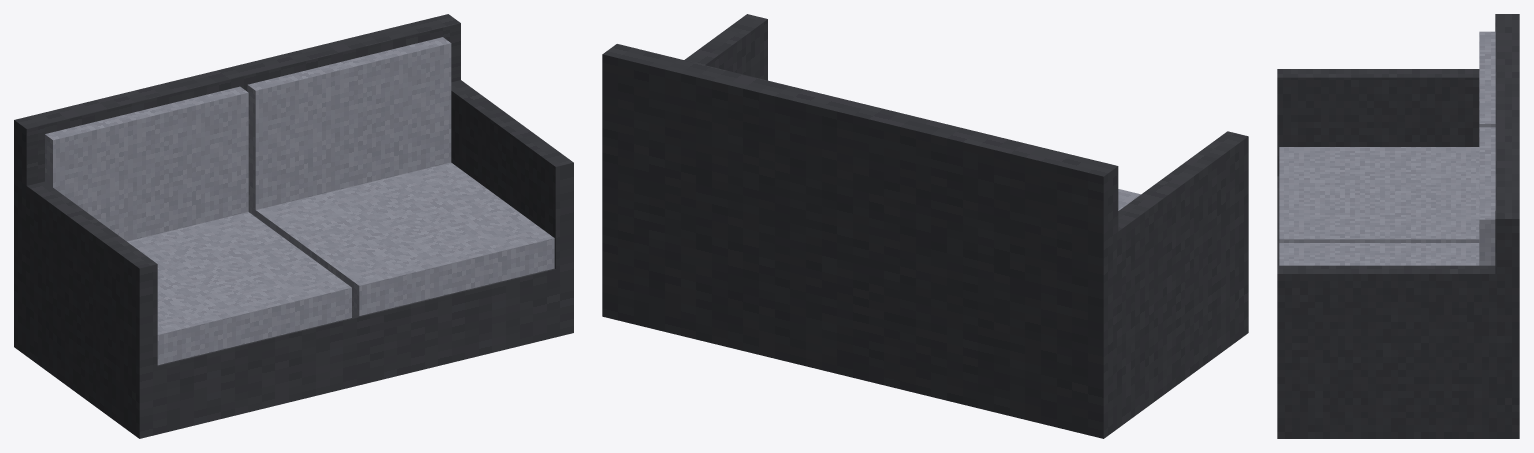
The model's file is HomeSofa.fbx.
3 views of the same model, side by side, from view 1: azimuth 30°, elevation 25°; view 2: azimuth 150°, elevation 25°; view 3: azimuth 270°, elevation 25° (orthographic). The views are drawn at different scales.
Visible parts, largest first — view 1: Cube_2_2, Cube_1, Cube_2, Cube_3, Cube, Cube_1_2, Cube_2_3; view 2: Cube_2_2, Cube_2_3, Cube_1_2; view 3: Cube_2_2, Cube, Cube_1_2, Cube_1, Cube_2_3, Cube_2, Cube_3.
Boxes of the visible parts, box(x1,y1,x2,y2) form: Cube_2_2: box(14, 14, 573, 438); Cube_1: box(248, 162, 554, 315); Cube_2: box(247, 37, 451, 209); Cube_3: box(45, 86, 248, 241); Cube: box(127, 212, 351, 365); Cube_1_2: box(45, 27, 555, 366); Cube_2_3: box(26, 23, 573, 268); Cube_2_2: box(602, 44, 1248, 438); Cube_2_3: box(684, 14, 1247, 231); Cube_1_2: box(705, 19, 767, 80); Cube_2_2: box(1277, 14, 1519, 438); Cube: box(1279, 147, 1479, 242); Cube_1_2: box(1277, 23, 1495, 265); Cube_1: box(1279, 243, 1479, 265); Cube_2_3: box(1277, 69, 1495, 273); Cube_2: box(1479, 127, 1495, 265); Cube_3: box(1479, 31, 1495, 127).
Size of the model in its own units: 600 by 300 by 300.
2 materials, 2 textured.
